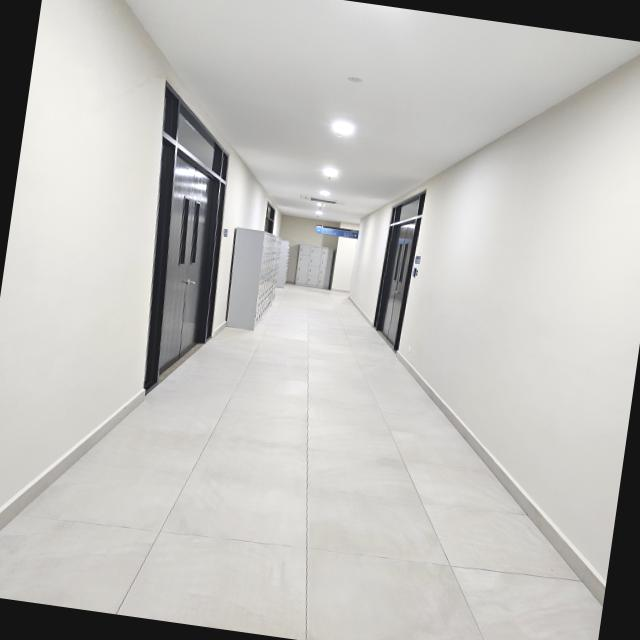door: (136, 142, 235, 397), (367, 214, 427, 353)
footpath: (55, 373, 549, 640)
obstacle: (218, 224, 292, 335)
